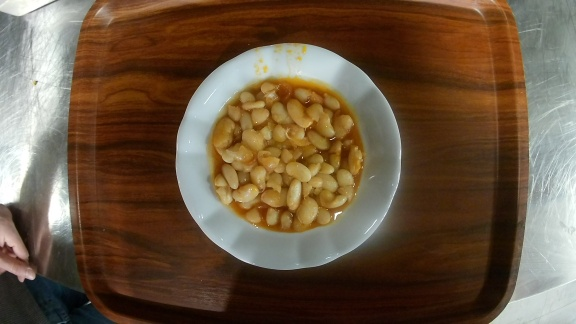kurufasulye: (174, 41, 403, 272)
